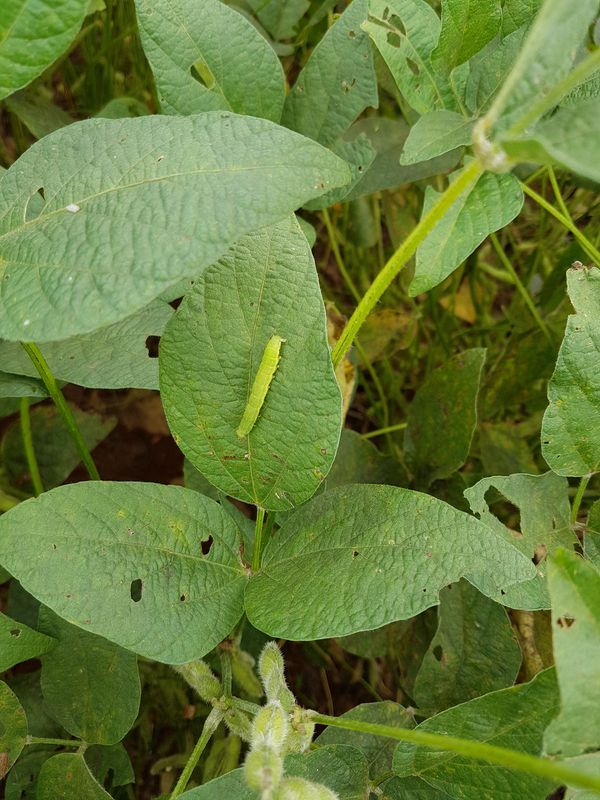Anticarsia_gemmatalis: (223, 325, 302, 445)
